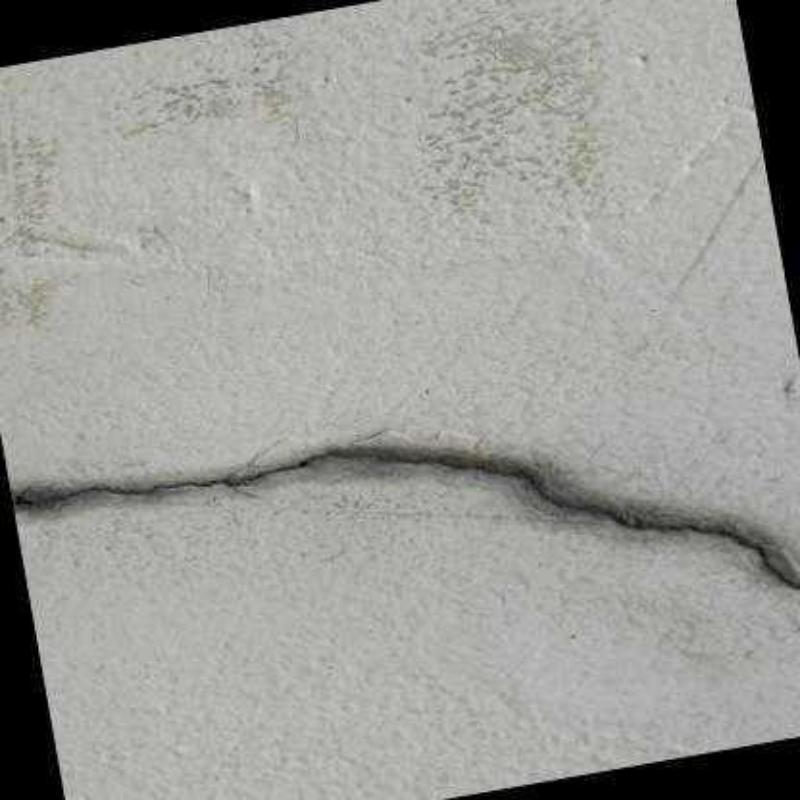crack: (12, 454, 799, 590)
